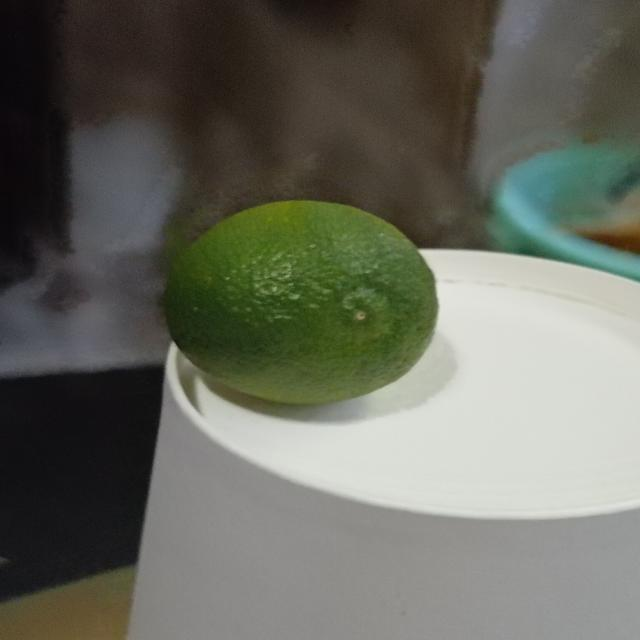heathy: (161, 191, 442, 408)
